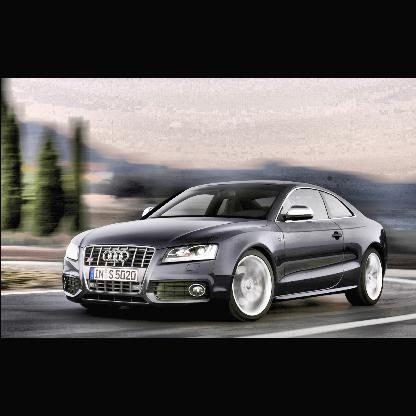Audi S5 Coupe 2012: (53, 166, 406, 337)
